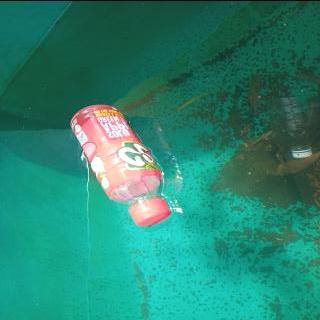bottle: (68, 101, 172, 226)
